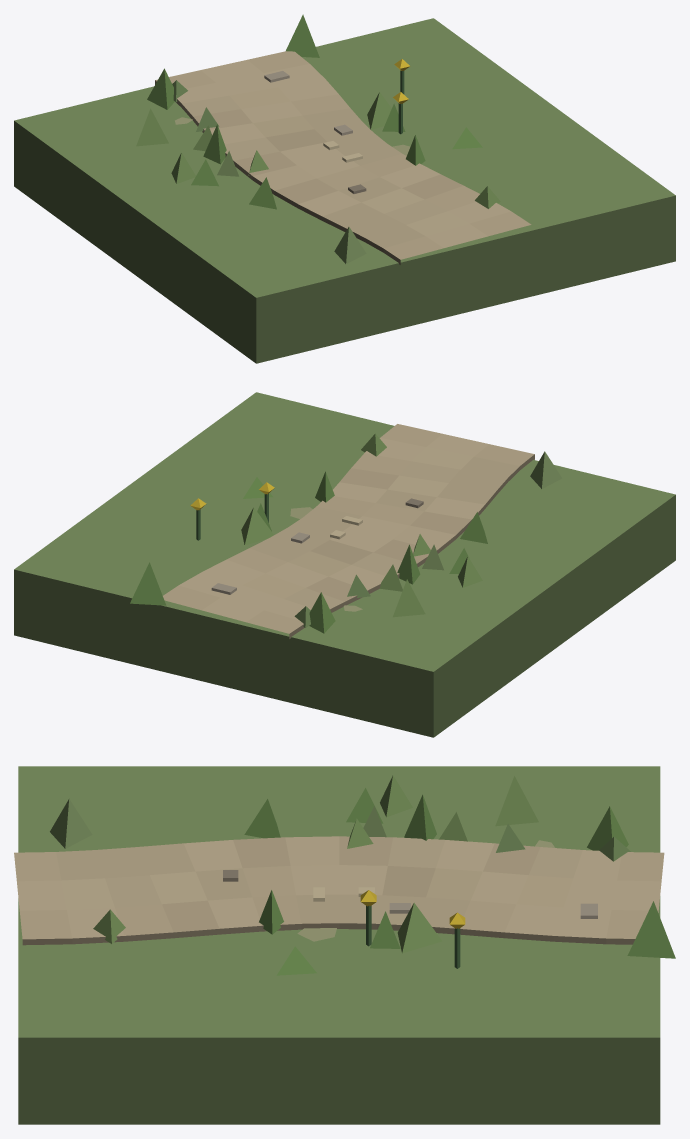
The model's file is t_footpath_4.glb.
3 views of the same model, one above another, from view 1: azimuth 30°, elevation 25°; view 2: azimuth 150°, elevation 25°; view 3: azimuth 270°, elevation 25° (orthographic). The views are drawn at different scales.
Visible parts, largest first — view 1: t_footpath_4; view 2: t_footpath_4; view 3: t_footpath_4.
Part boxes in pixels (x1,y1,x2,y2): t_footpath_4: (14, 14, 675, 363); t_footpath_4: (14, 392, 675, 737); t_footpath_4: (14, 766, 675, 1124).
Bounding box in the file's own units: 2 × 0.49 × 2.06.
